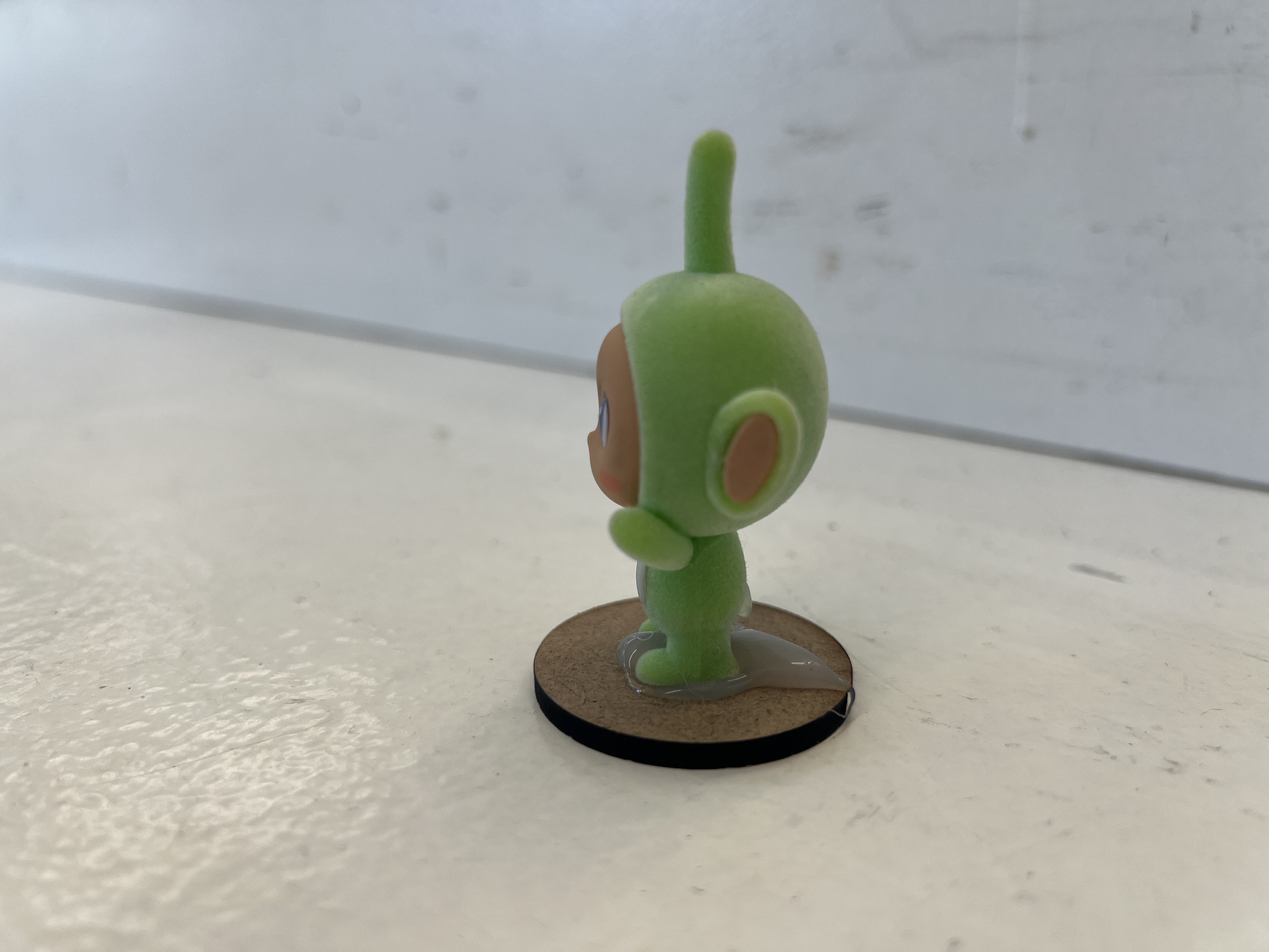teletubby: (588, 130, 828, 684)
